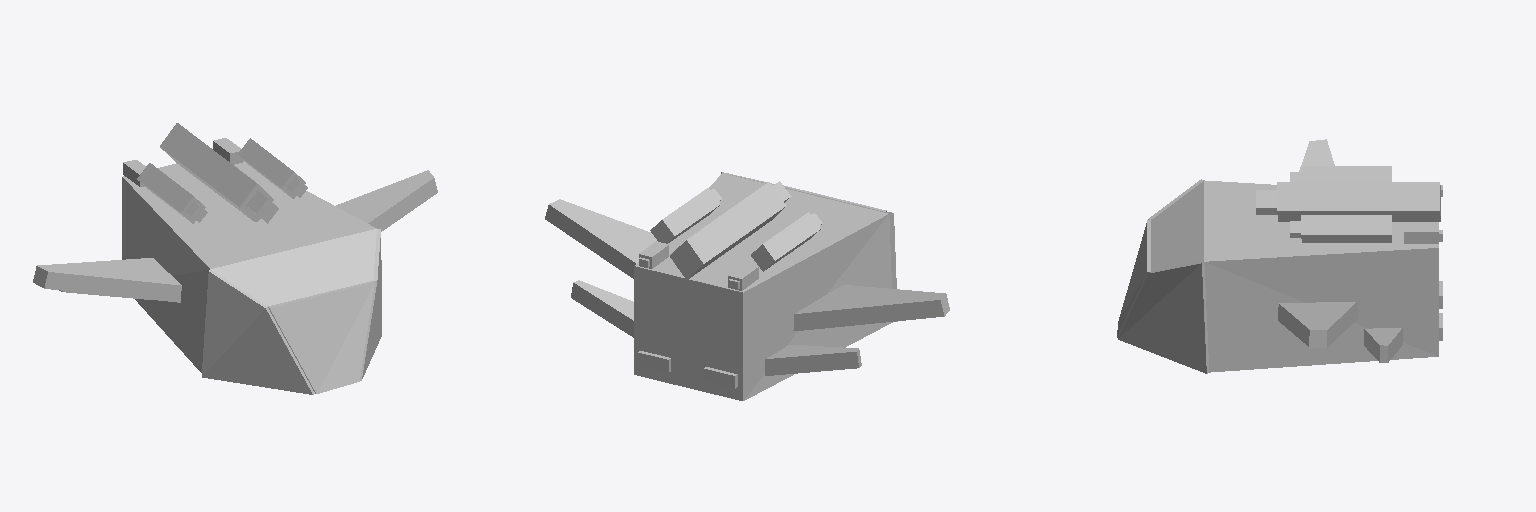
File: Compleated Ally Hermes Ship OBJ.obj
The picture shows the model from 3 angles: view 1: azimuth 30°, elevation 25°; view 2: azimuth 150°, elevation 25°; view 3: azimuth 270°, elevation 25°; orthographic projection.
Parts seen in each view (by area): view 1: pCube1, pCube3, pasted__pasted__pCylinder3 pasted__group1 group2, pasted__pasted__pasted__pasted__pCylinder3 pasted__pasted__paste, pasted__pasted__pasted__pCylinder3 pasted__pasted__group1 pasted; view 2: pCube1, pCube3, pasted__pasted__pCylinder3 pasted__group1 group2, pasted__pCube3 group5, pasted__pasted__pasted__pasted__pCylinder3 pasted__pasted__paste, pasted__pasted__pasted__pCylinder3 pasted__pasted__group1 pasted, pCube4; view 3: pCube1, pasted__pasted__pCylinder3 pasted__group1 group2, pCube3, pasted__pasted__pasted__pCylinder3 pasted__pasted__group1 pasted, pasted__pasted__pasted__pasted__pCylinder3 pasted__pasted__paste, pasted__pCube3 group5, pCube2.
Boxes of the visible parts, x1=… form: pCube1: x1=122, y1=161, x2=381, y2=394; pCube3: x1=33, y1=170, x2=437, y2=302; pasted__pasted__pCylinder3 pasted__group1 group2: x1=160, y1=123, x2=278, y2=223; pasted__pasted__pasted__pasted__pCylinder3 pasted__pasted__paste: x1=137, y1=163, x2=207, y2=223; pasted__pasted__pasted__pCylinder3 pasted__pasted__group1 pasted: x1=237, y1=138, x2=307, y2=198; pCube1: x1=634, y1=172, x2=897, y2=400; pCube3: x1=545, y1=199, x2=949, y2=330; pasted__pasted__pCylinder3 pasted__group1 group2: x1=670, y1=181, x2=791, y2=279; pasted__pCube3 group5: x1=571, y1=280, x2=861, y2=375; pasted__pasted__pasted__pasted__pCylinder3 pasted__pasted__paste: x1=751, y1=212, x2=822, y2=271; pasted__pasted__pasted__pCylinder3 pasted__pasted__group1 pasted: x1=650, y1=188, x2=721, y2=243; pCube4: x1=638, y1=351, x2=737, y2=388; pCube1: x1=1117, y1=179, x2=1438, y2=373; pasted__pasted__pCylinder3 pasted__group1 group2: x1=1256, y1=182, x2=1440, y2=221; pCube3: x1=1278, y1=139, x2=1357, y2=347; pasted__pasted__pasted__pCylinder3 pasted__pasted__group1 pasted: x1=1290, y1=215, x2=1391, y2=242; pasted__pasted__pasted__pasted__pCylinder3 pasted__pasted__paste: x1=1290, y1=166, x2=1391, y2=181; pasted__pCube3 group5: x1=1364, y1=328, x2=1402, y2=362; pCube2: x1=1404, y1=226, x2=1438, y2=243.
Size of the model in its own units: 12.78 by 4.56 by 9.05.